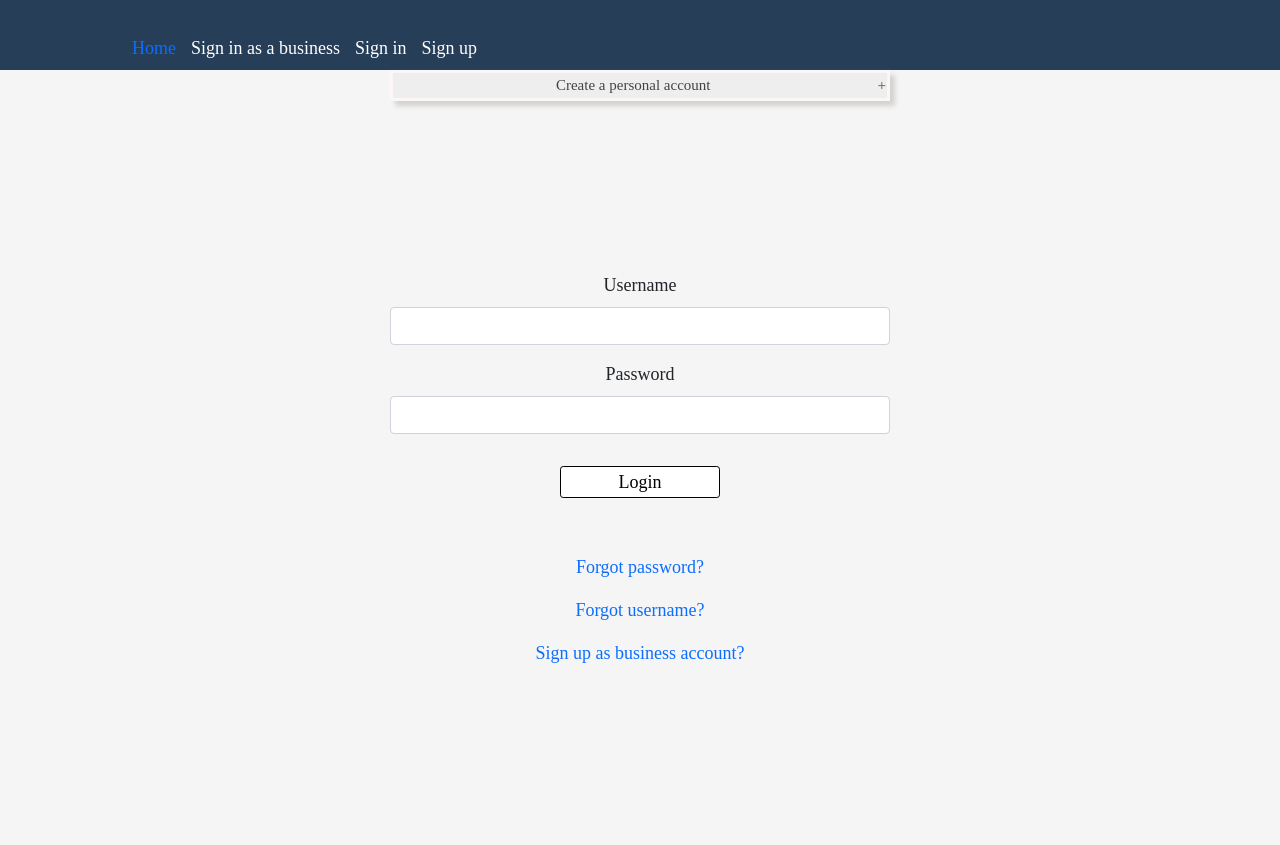
it: <Login/> › If Password or username are wrong should display an error
This screenshot has width=1280, height=845.
Type "testingapp" into the field labelled "Username" at coordinates (640, 326), box [390,306,890,344]
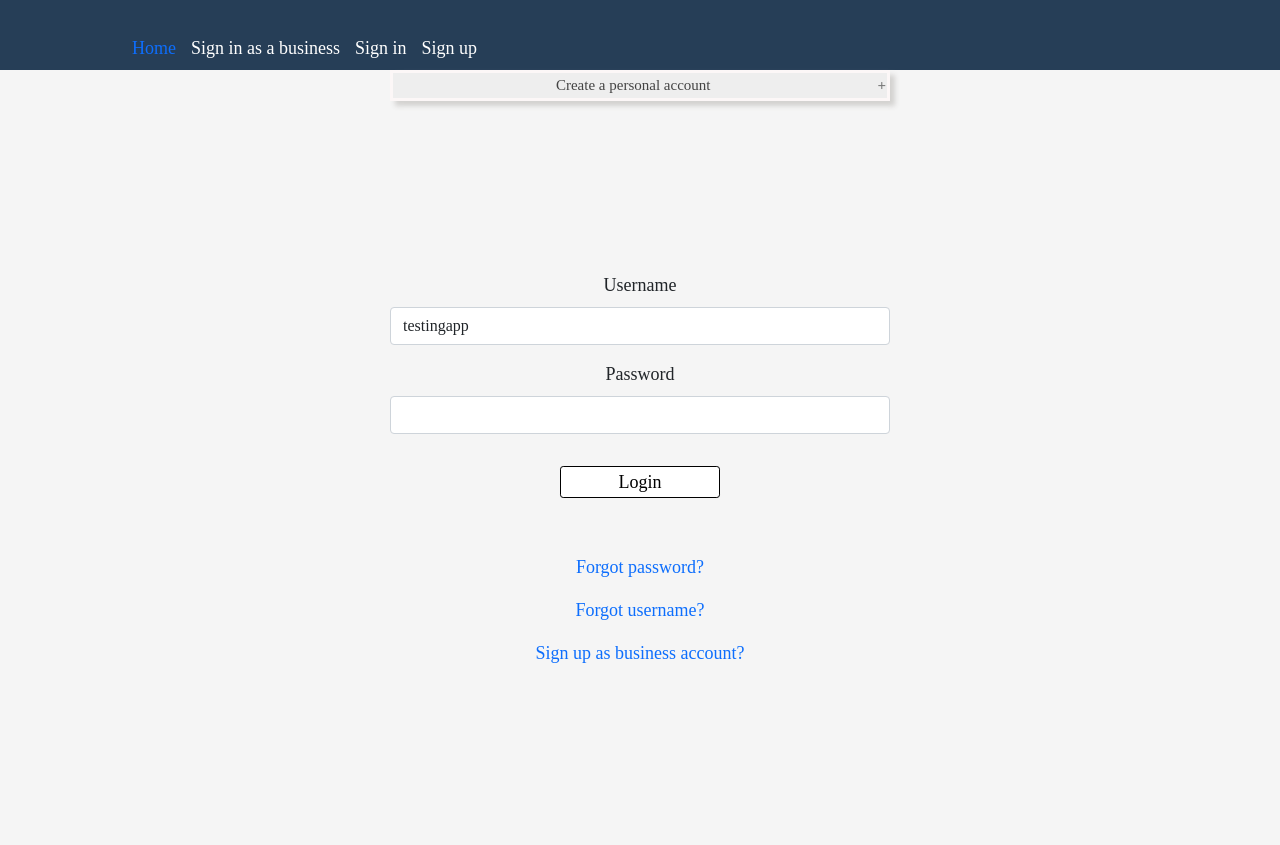
Type "123457" into the password field labelled "Password" at coordinates (640, 414), box [390,396,890,434]
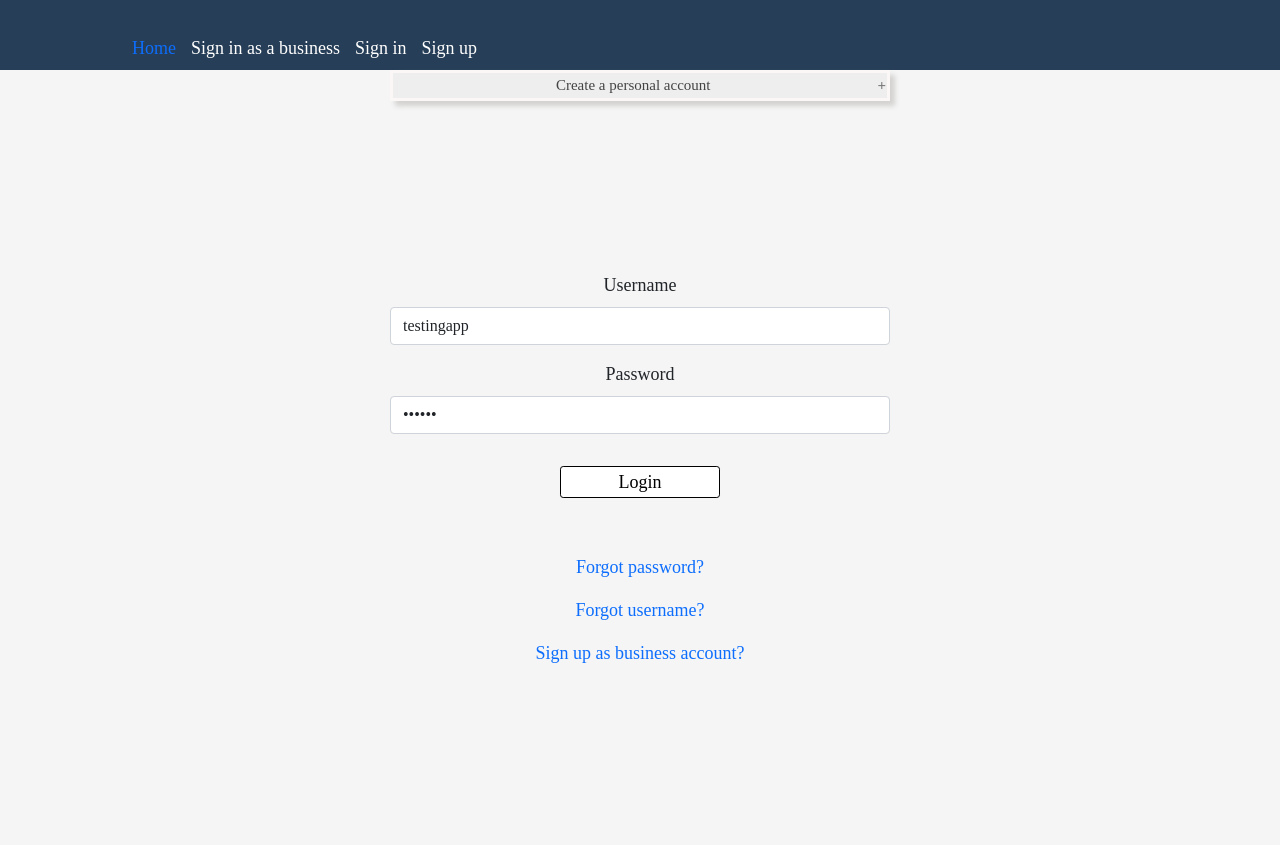
Click the button "Login" at coordinates (640, 482), box [560,466,720,498]
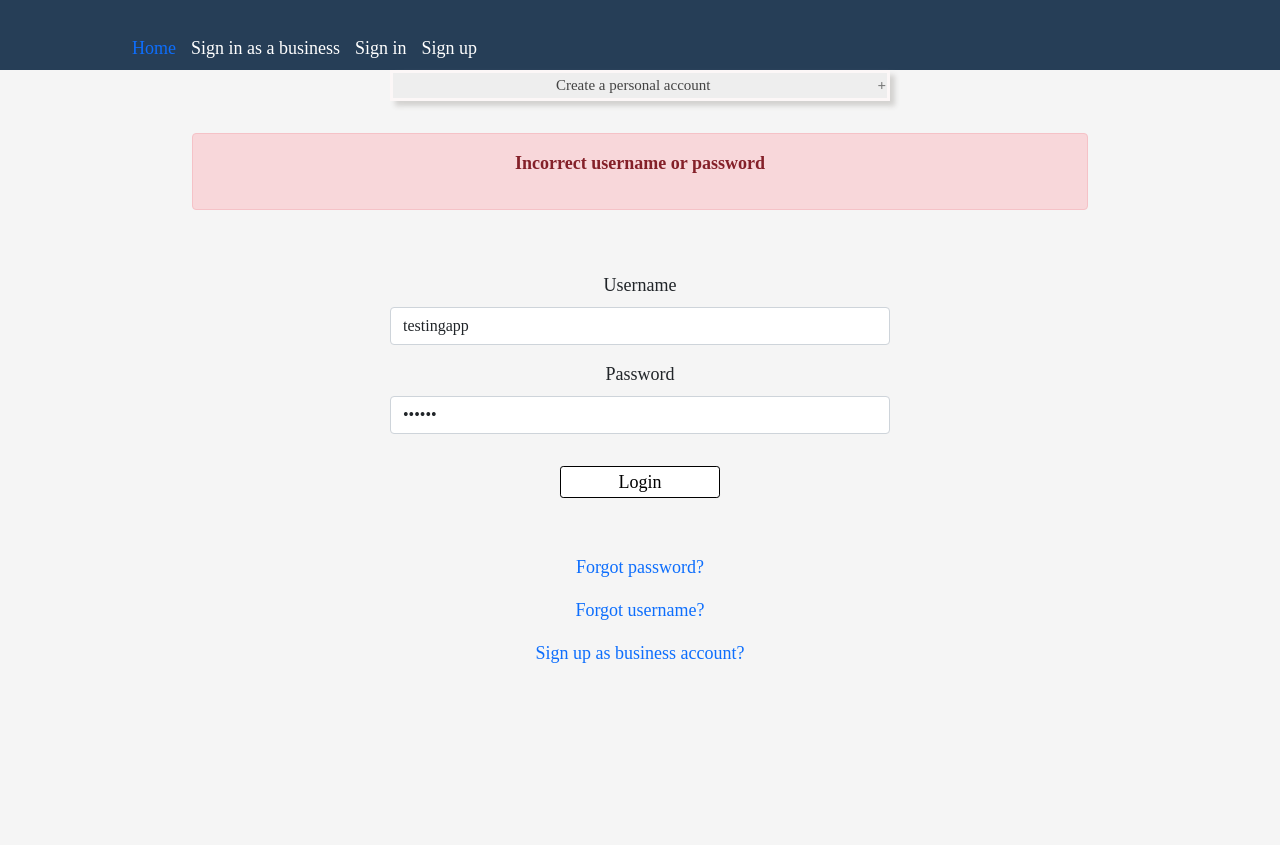
Check: the text "Incorrect username or password" is shown, box [515,152,765,172]
